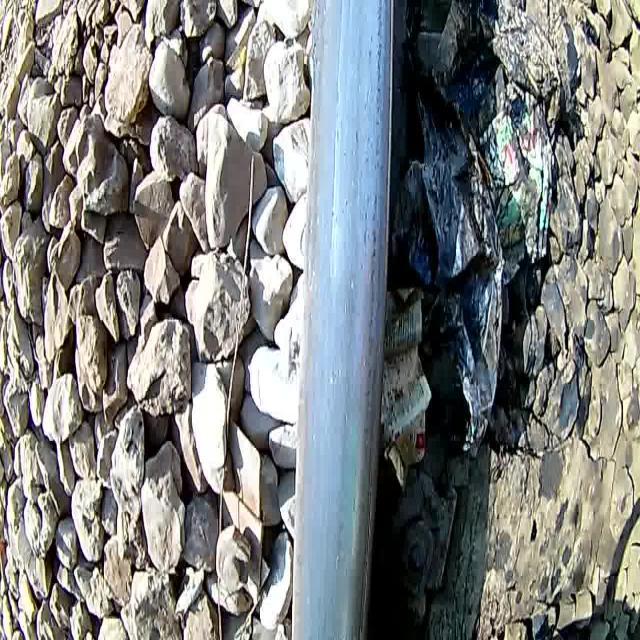Shellings: (361, 187, 380, 478), (352, 449, 376, 638), (369, 0, 386, 183)
